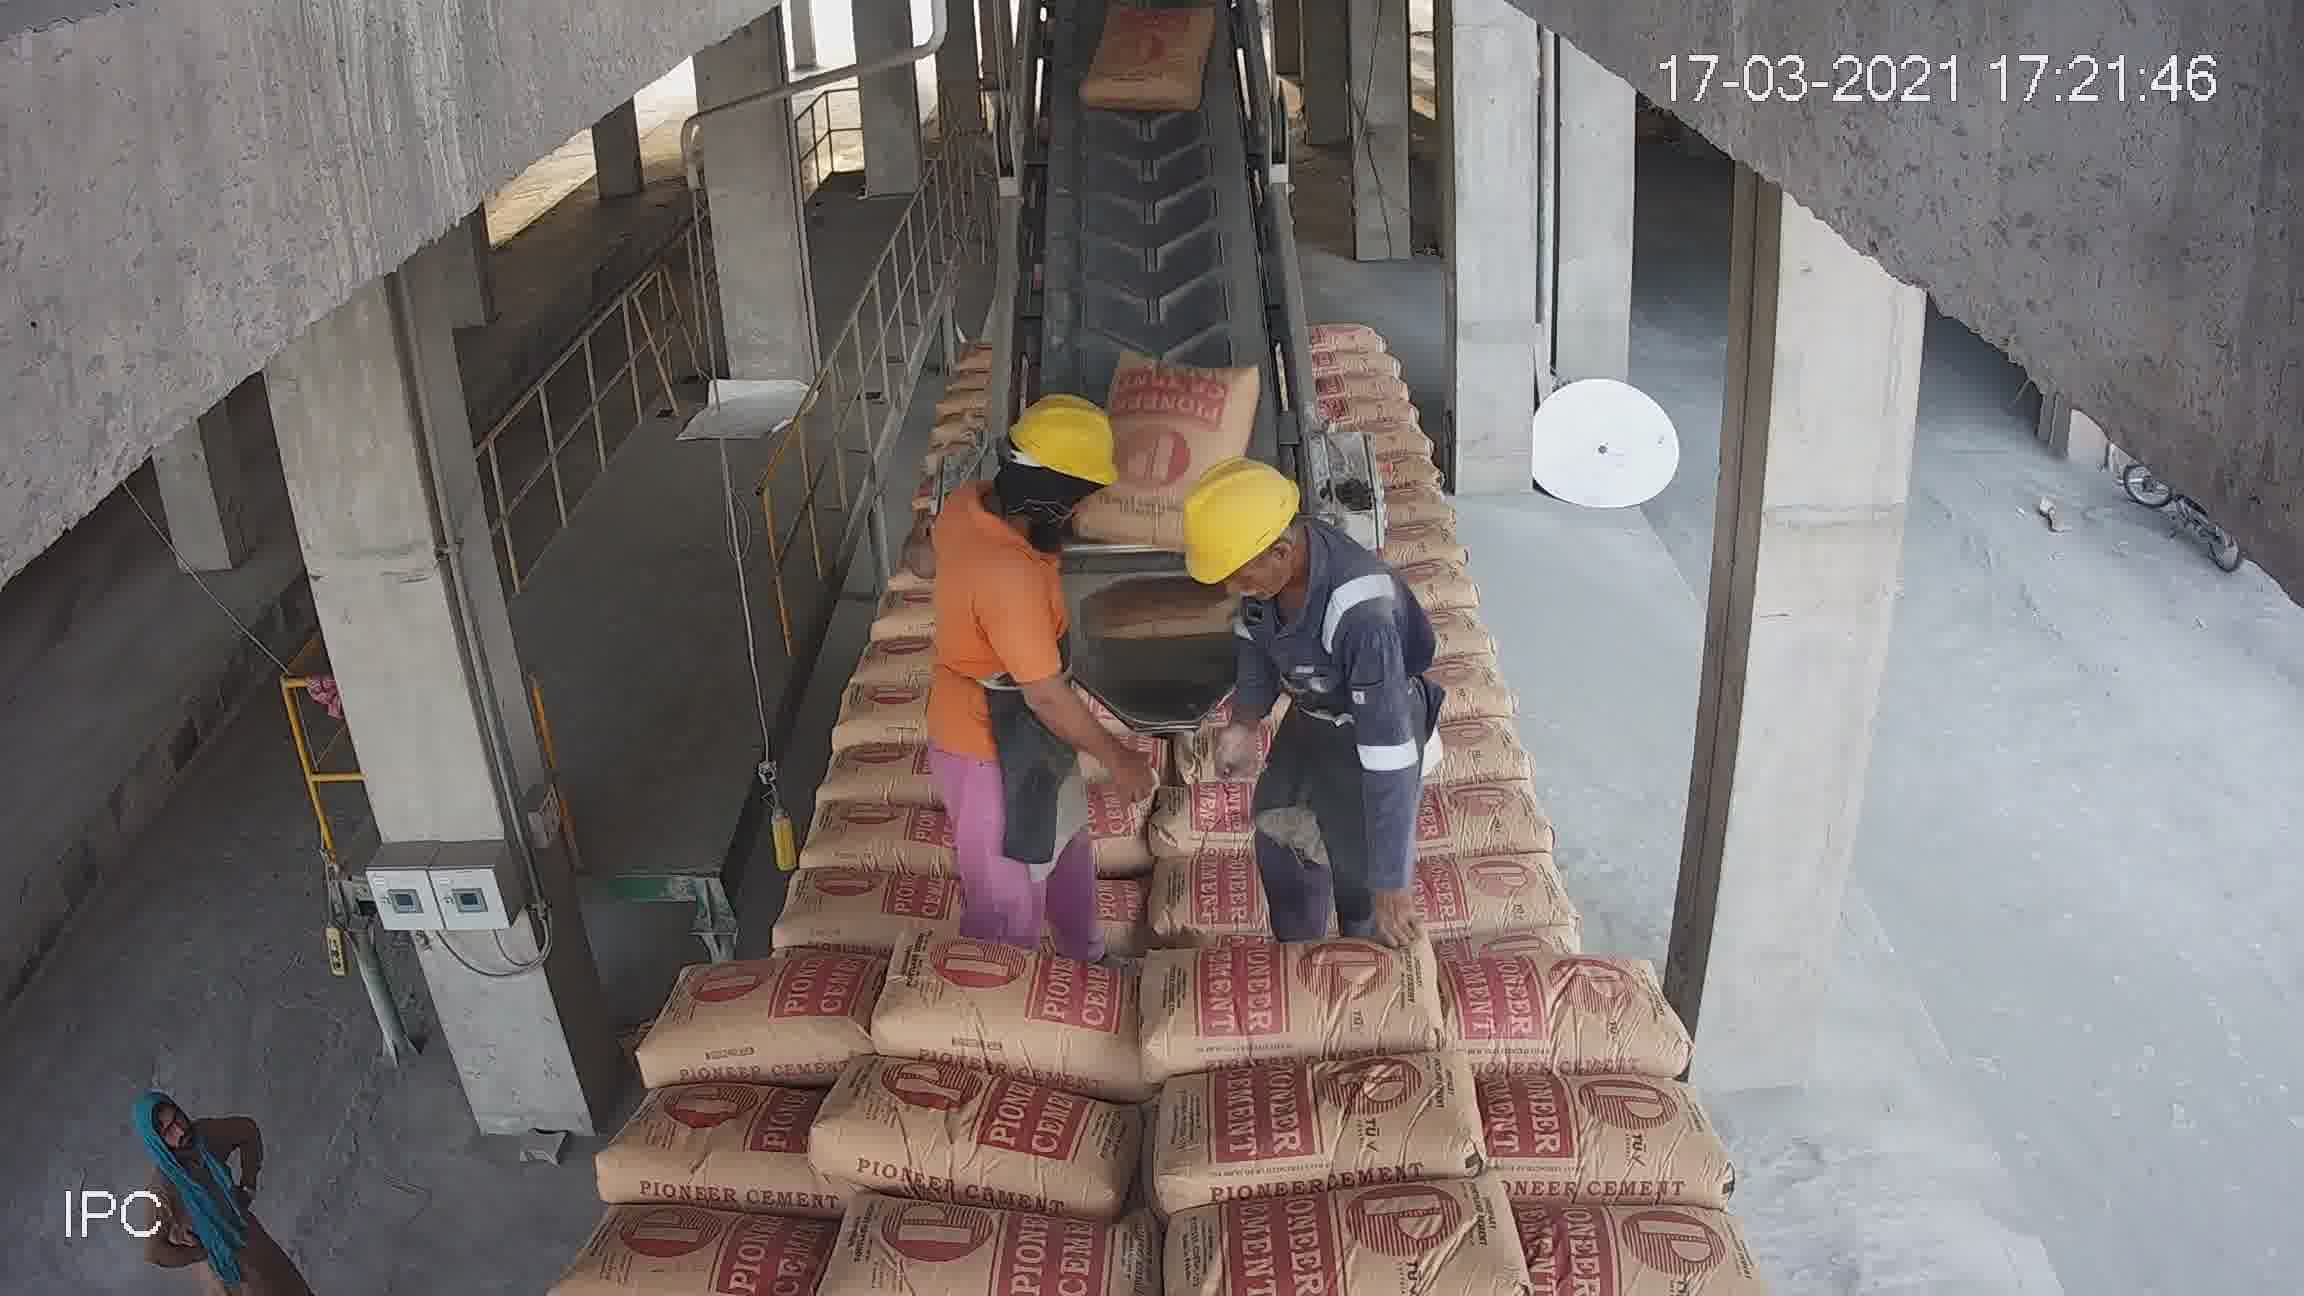bag_h: (1138, 1059, 1492, 1192), (1146, 926, 1457, 1074), (1097, 1180, 1527, 1279), (1119, 828, 1438, 954), (892, 934, 1138, 1067), (1112, 722, 1407, 832), (807, 1101, 1135, 1196), (1503, 1082, 1745, 1206), (636, 961, 853, 1097), (1459, 951, 1676, 1079), (587, 1082, 786, 1214), (878, 843, 1139, 935), (810, 1225, 1184, 1287), (1429, 859, 1657, 956), (1408, 761, 1605, 870), (1522, 1214, 1779, 1290), (915, 767, 1131, 855), (543, 1222, 836, 1285), (707, 779, 899, 873), (687, 869, 885, 957), (1143, 674, 1305, 733), (1017, 616, 1166, 679), (1029, 538, 1176, 601), (1029, 674, 1179, 734), (999, 585, 1176, 635), (1187, 506, 1328, 568), (905, 505, 1029, 567), (1169, 620, 1309, 666), (911, 470, 1019, 519), (1169, 573, 1329, 603)
belt: (1013, 0, 1301, 517)
